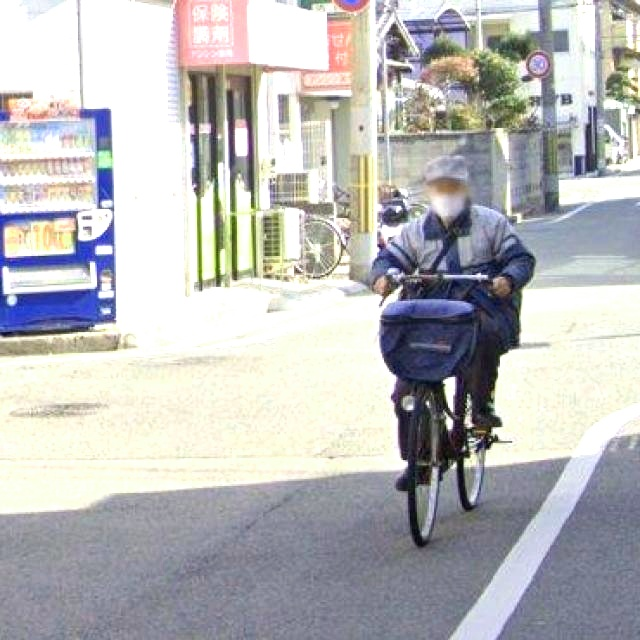bicycle: (360, 245, 507, 578)
